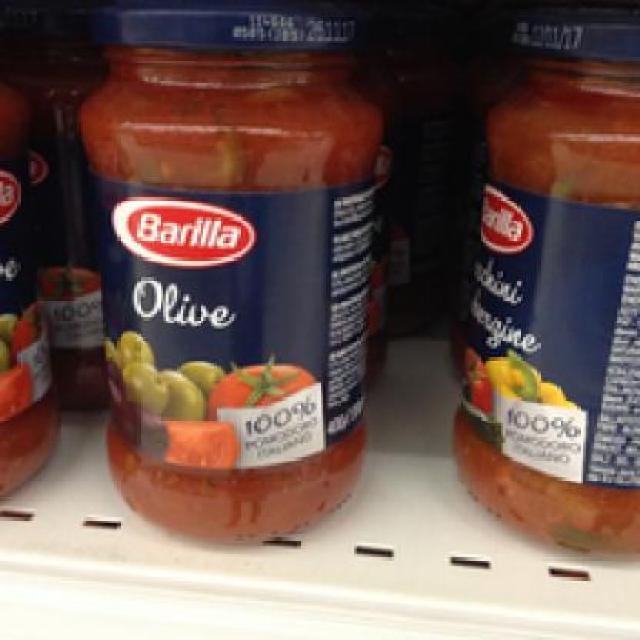Tomato Sauce: (74, 2, 383, 548), (442, 14, 638, 557)
